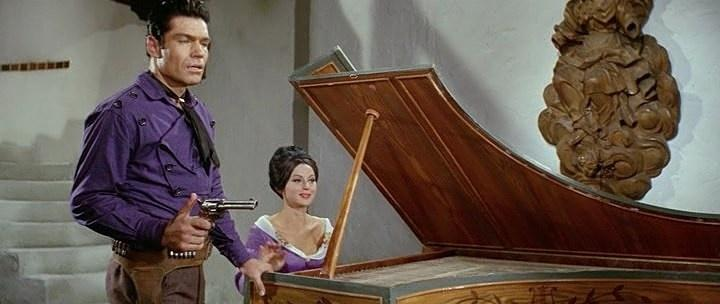gun: (165, 185, 246, 244)
